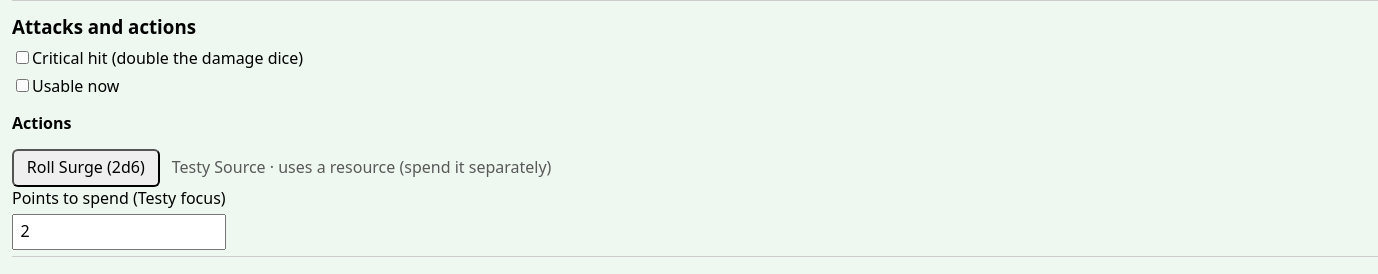
Test: an empty, fractional or out-of-range amount disables Roll and says why
Clear the number field labelled "Points to spend (Testy focus)" at (119, 232), box [12,214,226,250]
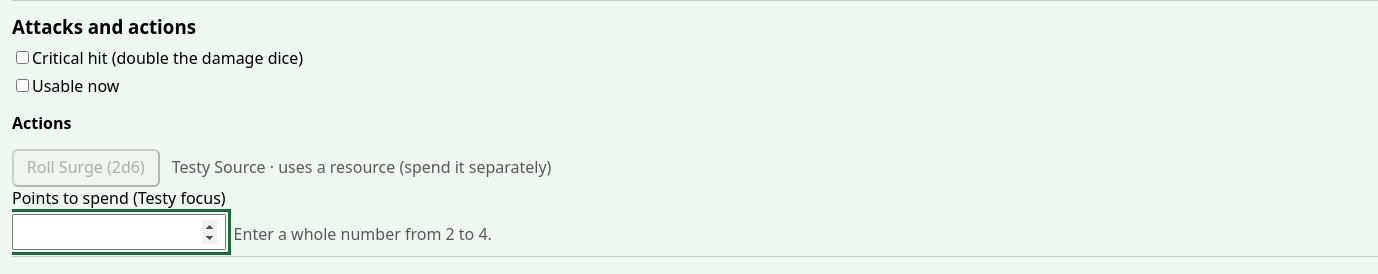
Expected: the button "Roll Surge (2d6)" is disabled, [12,149,160,187]
Type "1" into the number field labelled "Points to spend (Testy focus)" at (119, 232), box [12,214,226,250]
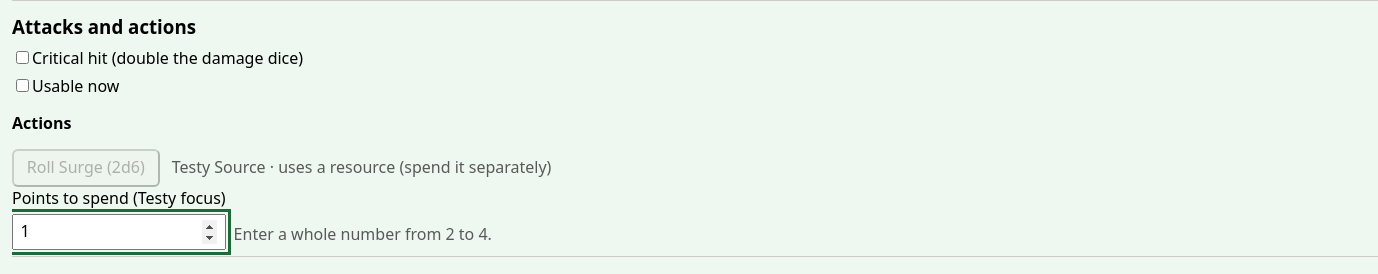
Expected: the button "Roll Surge (2d6)" is disabled, [12,149,160,187]
Replace the text in the number field labelled "Points to spend (Testy focus)" with "5" at (119, 232), box [12,214,226,250]
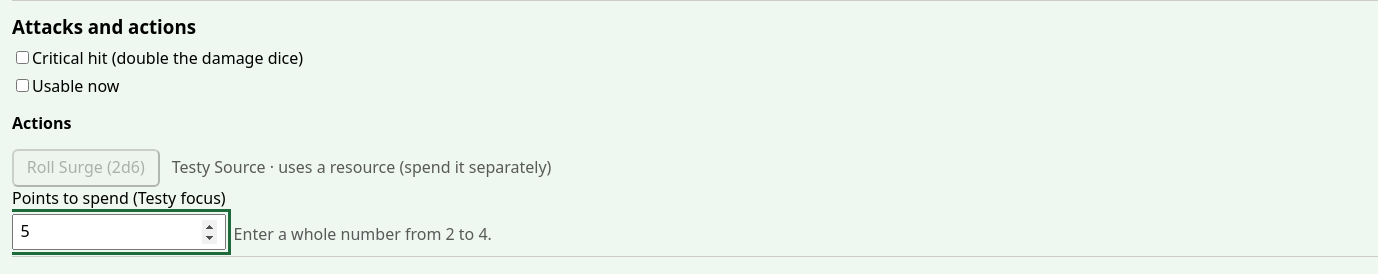
Expected: the button "Roll Surge (2d6)" is disabled, [12,149,160,187]
Replace the text in the number field labelled "Points to spend (Testy focus)" with "2.5" at (119, 232), box [12,214,226,250]
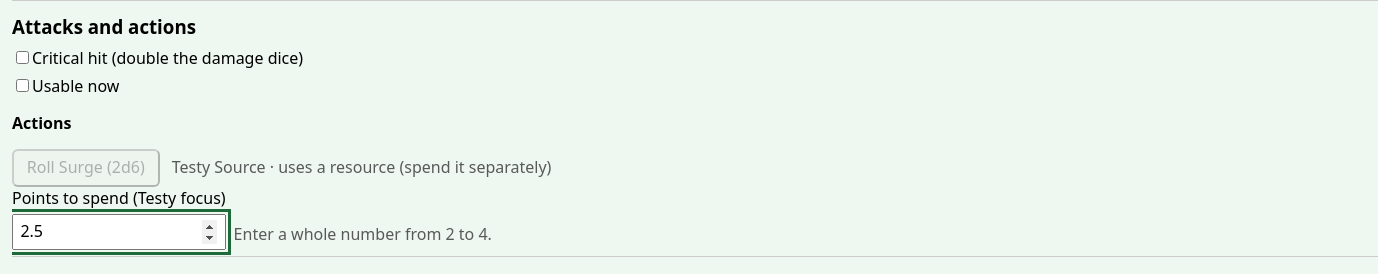
Expected: the button "Roll Surge (2d6)" is disabled
Click the button "Roll Surge (2d6)" at (86, 168), box [12,149,160,187]
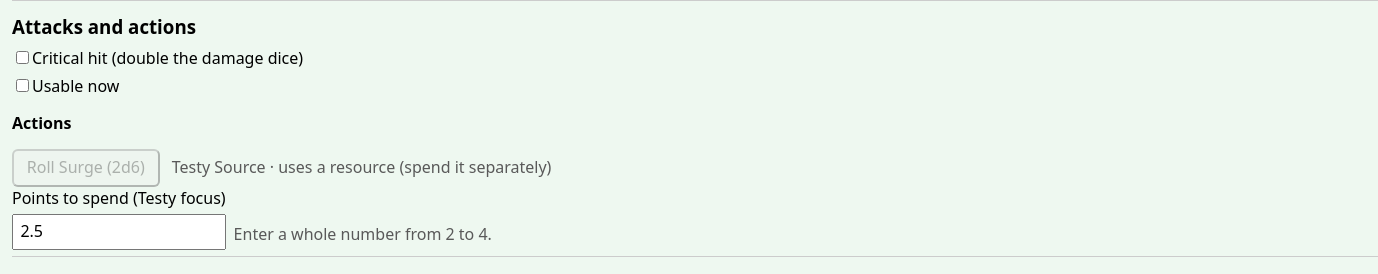
Replace the text in the number field labelled "Points to spend (Testy focus)" with "3" at (119, 232), box [12,214,226,250]
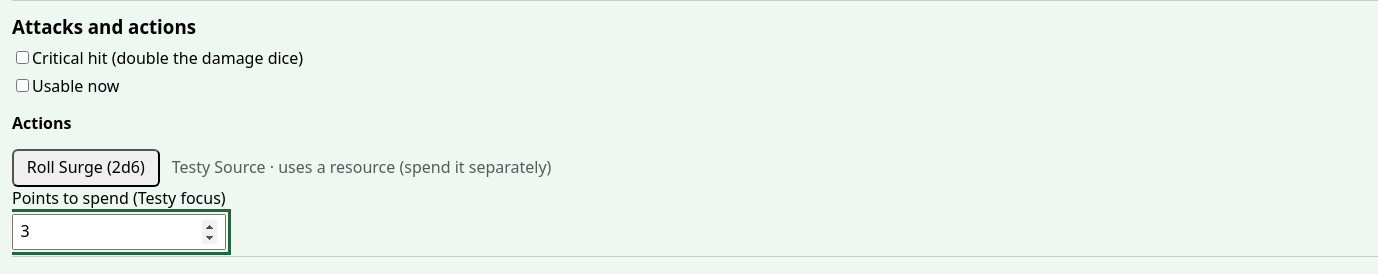
Expected: the button "Roll Surge (2d6)" is enabled, [12,149,160,187]
